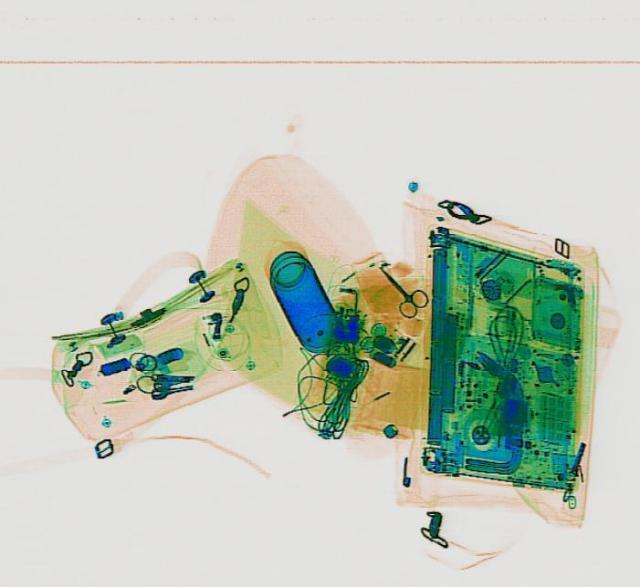Scissors: (364, 259, 434, 318)
